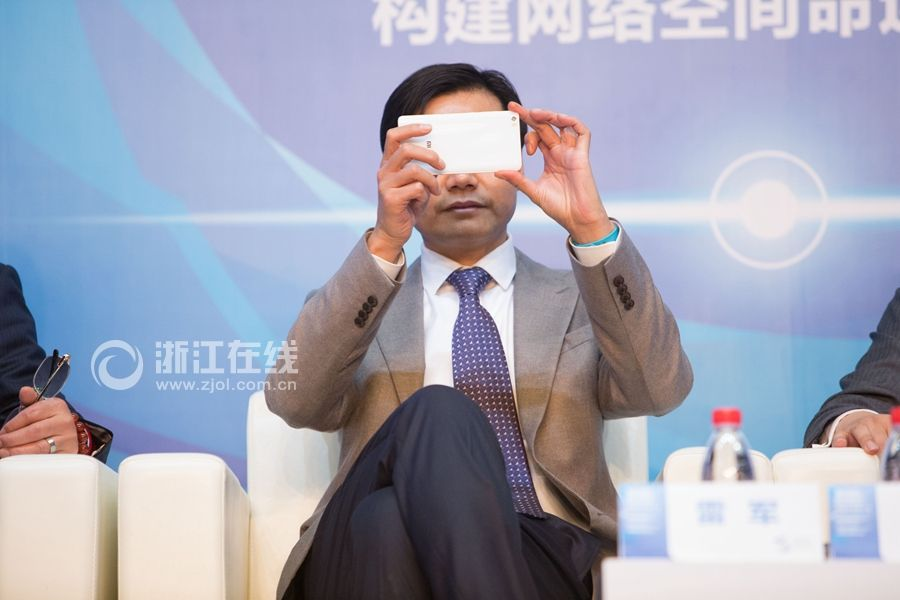taking photos: (368, 96, 614, 239)
